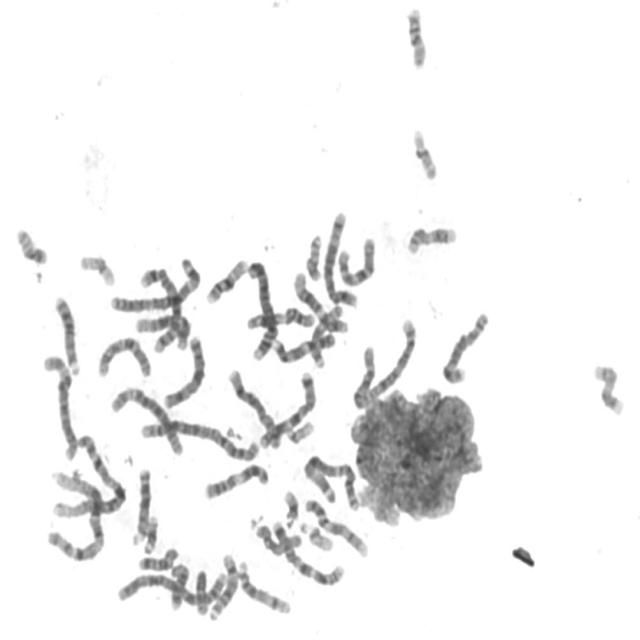A1: (48, 429, 128, 520), (43, 464, 109, 564)
A2: (348, 312, 419, 411), (136, 413, 262, 464)
A3: (107, 252, 204, 314), (300, 448, 362, 513)
B4: (114, 566, 229, 608), (243, 255, 278, 363)
B5: (318, 206, 360, 310), (140, 266, 184, 356)
C10: (94, 330, 154, 380), (333, 231, 378, 289)
C11: (201, 458, 271, 502), (243, 302, 317, 332)
C12: (289, 266, 350, 335), (132, 308, 192, 351)
C6: (107, 380, 187, 457), (38, 348, 80, 462)
C7: (268, 514, 347, 588), (256, 366, 318, 451)
C8: (224, 363, 284, 451), (438, 307, 492, 386)
C9: (300, 493, 370, 559), (267, 328, 337, 365)
D13: (49, 288, 82, 377), (128, 462, 153, 546)
D14: (234, 556, 294, 617), (206, 548, 241, 622)
D15: (310, 306, 345, 374), (251, 518, 304, 557)
E16: (202, 252, 250, 306), (403, 2, 429, 70)
E17: (590, 358, 626, 418), (403, 219, 459, 257)
E18: (134, 542, 181, 572), (166, 559, 191, 611)
F19: (408, 123, 440, 182), (75, 248, 117, 288)
F20: (12, 221, 49, 267), (302, 228, 325, 282)
G21: (140, 510, 160, 556), (280, 485, 300, 531)
G22: (296, 516, 336, 554), (282, 414, 316, 446)
X: (158, 330, 208, 410)
Y: (191, 565, 210, 616)
